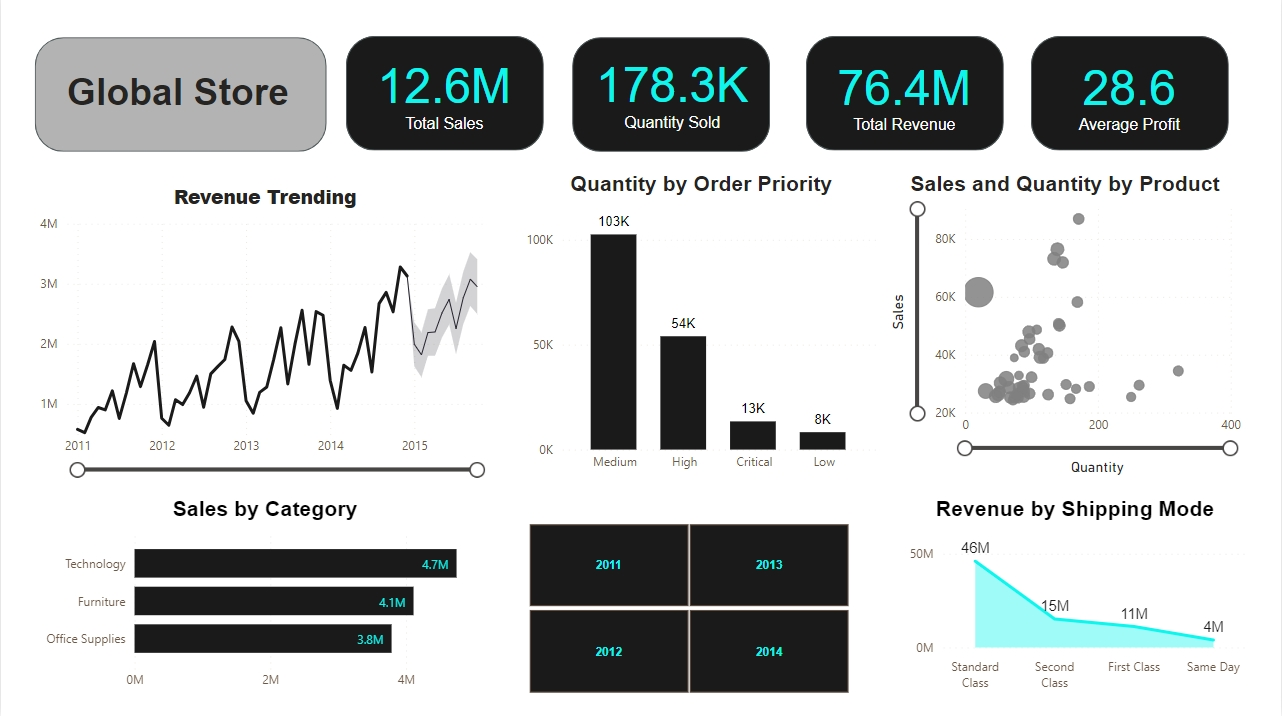

Layout of this report page (visuals, bound fields, positions):
{"tool":"powerbi","page":{"name":"Global Store Dashboard","canvas":[1280,720],"ordinal":0},"visuals":[{"type":"lineChart","title":"Revenue Trending","fields":{"Y":["Sum(superstore.Revenue)"],"Category":["superstore.Start of Month.Variation.Date Hierarchy.Year","superstore.Start of Month.Variation.Date Hierarchy.Quarter","superstore.Start of Month.Variation.Date Hierarchy.Month","superstore.Start of Month.Variation.Date Hierarchy.Day"]},"box":[33.8,186.9,460.7,296.7],"z":0},{"type":"shape","box":[1029.9,39.8,197.8,114.6],"z":1000},{"type":"shape","box":[344.9,39.8,197.8,114.6],"z":2000},{"type":"shape","box":[571.7,41,197.8,114.6],"z":3000},{"type":"shape","box":[804.4,39.8,197.8,114.6],"z":4000},{"type":"card","fields":{"Values":["superstore.Average Profit"]},"box":[1052.9,48.2,152,97.7],"z":5000},{"type":"card","fields":{"Values":["Sum(superstore.Quantity)"]},"box":[588.5,41,165.2,107.3],"z":6000},{"type":"card","fields":{"Values":["Sum(superstore.Revenue)"]},"box":[827.3,48.2,152,97.7],"z":7000},{"type":"card","fields":{"Values":["Sum(superstore.Sales)"]},"box":[367.8,47,152,97.7],"z":8000},{"type":"clusteredBarChart","title":"Sales by Category","fields":{"Category":["superstore.Category"],"Y":["Sum(superstore.Sales)"]},"box":[33.8,501.7,460.7,201.4],"z":9000},{"type":"clusteredColumnChart","title":"Quantity by Order Priority","fields":{"Category":["superstore.Order.Priority"],"Y":["Sum(superstore.Quantity)"]},"box":[519.8,176.1,360.6,307.5],"z":10000},{"type":"scatterChart","title":"Sales and Quantity by Product","fields":{"Category":["superstore.Product.Name"],"X":["Sum(superstore.Quantity)"],"Y":["Sum(superstore.Sales)"],"Size":["Avg(superstore.Profit)"]},"box":[884,176.1,360.6,307.5],"z":11000},{"type":"areaChart","title":"Revenue by Shipping Mode","fields":{"Category":["superstore.Ship.Mode"],"Y":["Sum(superstore.Revenue)"]},"box":[893.7,501.7,360.6,201.4],"z":12000},{"type":"slicer","fields":{"Values":["superstore.Year"]},"box":[502.9,521,369,182.1],"z":13000},{"type":"shape","box":[33.8,41,291.9,114.6],"z":14000},{"type":"textbox","box":[44.6,69.9,264.1,66.3],"z":15000}]}

Visuals, with their boxes in screenshot pixels (x1, y1, x2, y2), scaled from the page's 1280x720 canvas onto the 1282x716 screenshot:
"Revenue Trending" lineChart: detection(34, 186, 495, 481)
shape: detection(1032, 40, 1230, 154)
shape: detection(345, 40, 544, 154)
shape: detection(573, 41, 771, 155)
shape: detection(806, 40, 1004, 154)
card - superstore.Average Profit: detection(1055, 48, 1207, 145)
card - Sum(superstore.Quantity): detection(589, 41, 755, 147)
card - Sum(superstore.Revenue): detection(829, 48, 981, 145)
card - Sum(superstore.Sales): detection(368, 47, 521, 144)
"Sales by Category" clusteredBarChart: detection(34, 499, 495, 699)
"Quantity by Order Priority" clusteredColumnChart: detection(521, 175, 882, 481)
"Sales and Quantity by Product" scatterChart: detection(885, 175, 1247, 481)
"Revenue by Shipping Mode" areaChart: detection(895, 499, 1256, 699)
slicer - superstore.Year: detection(504, 518, 873, 699)
shape: detection(34, 41, 326, 155)
textbox: detection(45, 70, 309, 135)
